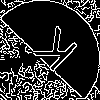K: (25, 25, 80, 81)
